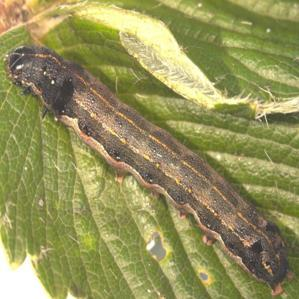Tobacco cutworm: (5, 30, 299, 284)
